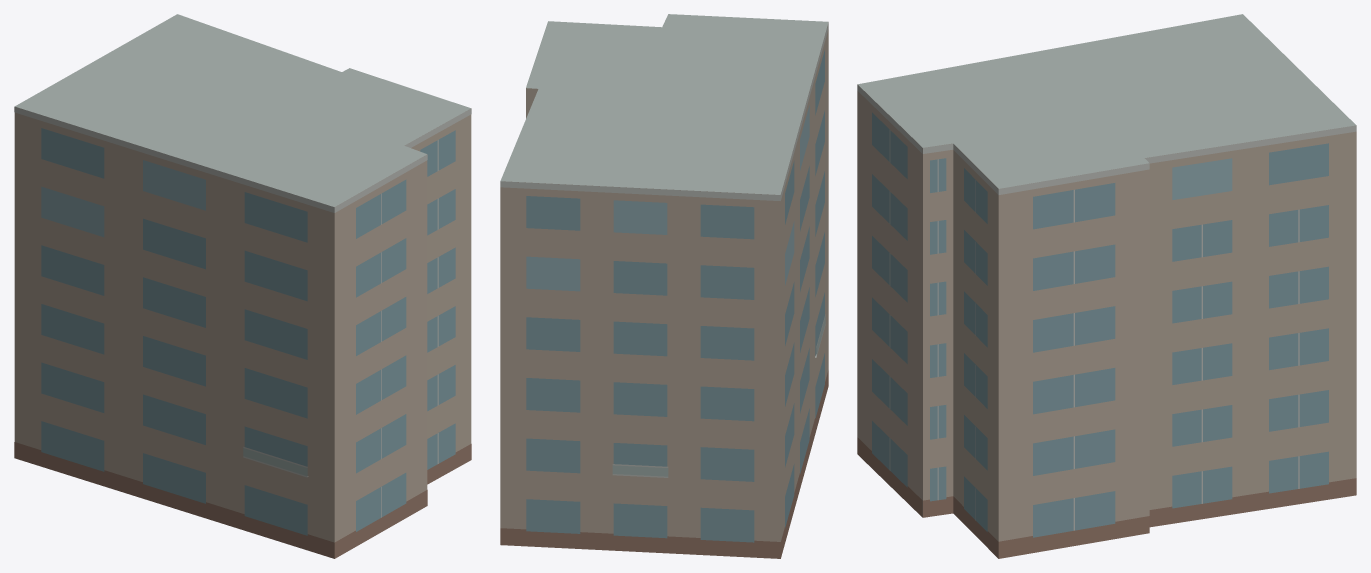
File: survey-upis-32848341.glb
3 renders of one model, left to right at view 1: azimuth 30°, elevation 25°; view 2: azimuth 150°, elevation 25°; view 3: azimuth 270°, elevation 25°, orthographic. The views are drawn at different scales.
Visible parts, largest first — view 1: survey-upis-32848341.tmp; view 2: survey-upis-32848341.tmp; view 3: survey-upis-32848341.tmp.
Boxes of the visible parts, x1,y1,x2,y2 form: survey-upis-32848341.tmp: [14, 14, 471, 558]; survey-upis-32848341.tmp: [500, 14, 828, 558]; survey-upis-32848341.tmp: [857, 14, 1356, 558].
Bounding box in the file's own units: 14.72 × 14.5 × 17.74.
